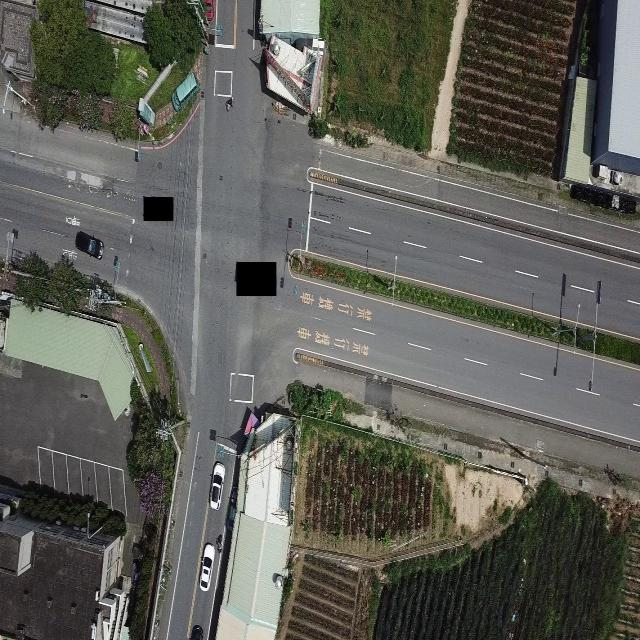bike: (224, 96, 237, 114)
car: (171, 71, 199, 112), (75, 230, 103, 260), (208, 461, 224, 511), (198, 542, 214, 592), (201, 0, 218, 22), (189, 622, 206, 640)
